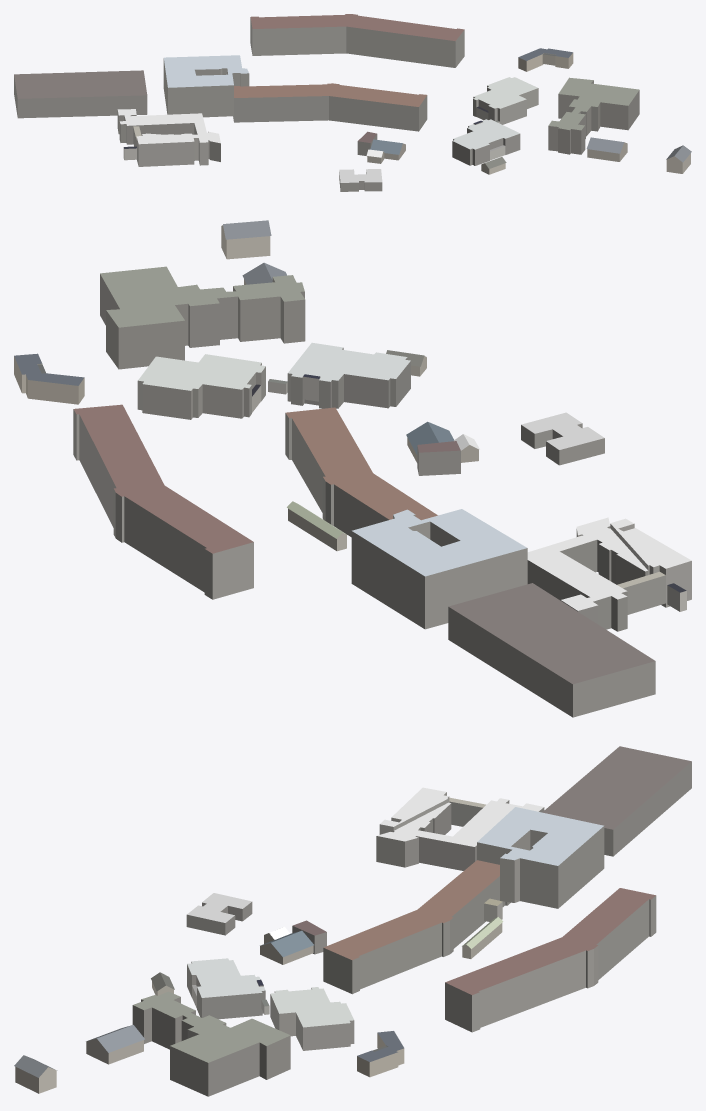
3 renders of one model, top to bottom at view 1: azimuth 30°, elevation 25°; view 2: azimuth 150°, elevation 25°; view 3: azimuth 270°, elevation 25°, orthographic. The views are drawn at different scales.
Visible parts, largest first — view 1: tuile; view 2: tuile; view 3: tuile.
Part boxes in pixels (x1,y1,x2,y2): tuile: (14, 14, 691, 191); tuile: (14, 220, 691, 717); tuile: (14, 746, 691, 1096).
Bounding box in the file's own units: 282 × 23.44 × 252.
